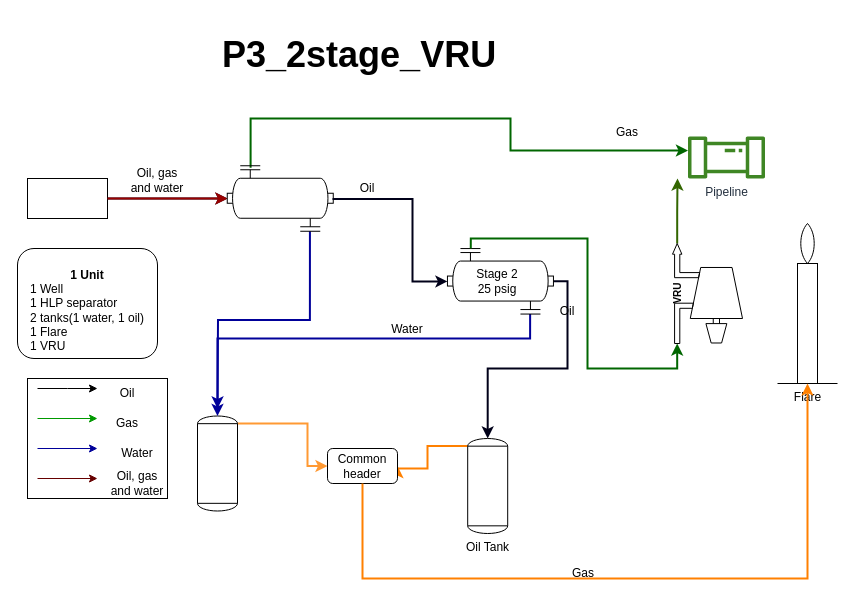
Some shapes in this 855 by 605 pixel diagram are drawn without their labels. Each missing label, with the box of its shape:
Stage 1 200 psig: (226, 165, 333, 231)
Water tank: (196, 415, 238, 511)
Well_1: (26, 178, 108, 218)
